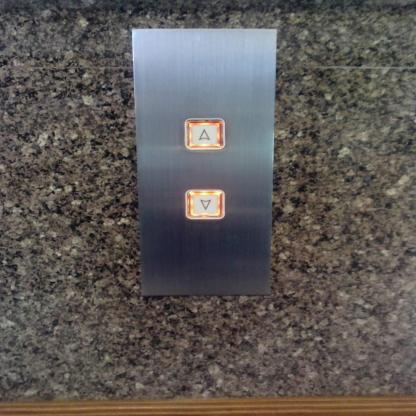down: (183, 187, 227, 221)
up: (181, 117, 226, 151)
